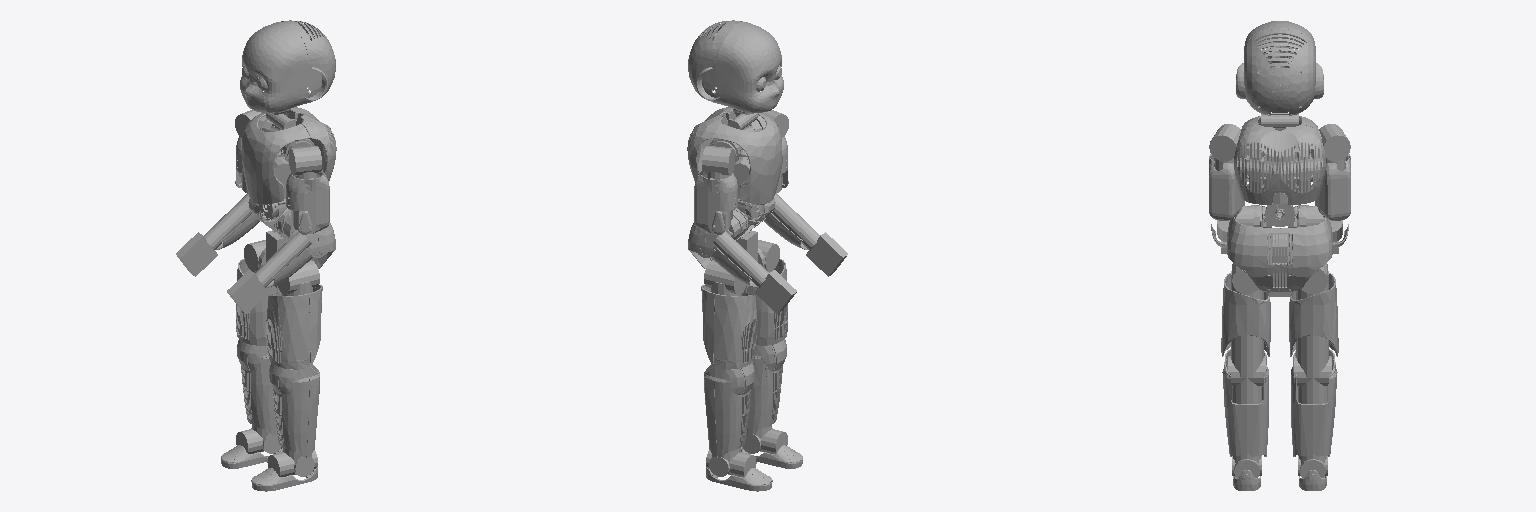
--- Render facts (derived) ---
3 views of the same robot in one strip: view 1: azimuth 30°, elevation 25°; view 2: azimuth 150°, elevation 25°; view 3: azimuth 270°, elevation 25° (orthographic).
Robot: iCub — 56 links, 55 joints (29 revolute, 26 fixed); root link base_link; default pose: all joints at 0 but 2 set to mid-range because 0 is outside their limits (l_elbow = 0.973, r_elbow = 0.973).
Visible links, largest first — view 1: head, chest, l_upper_leg, l_lower_leg, r_lower_leg, l_upper_arm, torso_1, l_forearm, r_forearm, l_foot, r_upper_leg, r_foot (+4 smaller); view 2: head, chest, r_upper_leg, r_lower_leg, l_lower_leg, r_upper_arm, torso_1, r_forearm, l_forearm, r_foot, l_upper_leg, l_foot (+4 smaller); view 3: torso_1, chest, head, l_upper_leg, r_upper_leg, l_lower_leg, r_lower_leg, l_upper_arm, r_upper_arm, l_shoulder_2, r_shoulder_2, l_foot (+1 smaller).
Link boxes in pixels (left/top/right/bottom): head: left=240, top=20, right=335, bottom=113; chest: left=242, top=107, right=336, bottom=204; l_upper_leg: left=266, top=281, right=322, bottom=371; l_lower_leg: left=269, top=362, right=319, bottom=461; r_lower_leg: left=237, top=339, right=276, bottom=438; l_upper_arm: left=286, top=170, right=329, bottom=234; torso_1: left=247, top=199, right=335, bottom=268; l_forearm: left=255, top=231, right=312, bottom=287; r_forearm: left=204, top=193, right=259, bottom=250; l_foot: left=251, top=450, right=317, bottom=491; r_upper_leg: left=236, top=258, right=279, bottom=345; r_foot: left=221, top=429, right=282, bottom=468; head: left=688, top=20, right=783, bottom=113; chest: left=687, top=107, right=782, bottom=204; r_upper_leg: left=701, top=281, right=757, bottom=371; r_lower_leg: left=704, top=362, right=754, bottom=461; l_lower_leg: left=747, top=339, right=786, bottom=438; r_upper_arm: left=694, top=170, right=737, bottom=234; torso_1: left=688, top=199, right=776, bottom=268; r_forearm: left=711, top=231, right=768, bottom=287; l_forearm: left=764, top=193, right=820, bottom=250; r_foot: left=706, top=450, right=772, bottom=491; l_upper_leg: left=744, top=258, right=787, bottom=345; l_foot: left=741, top=429, right=802, bottom=468; torso_1: left=1227, top=203, right=1332, bottom=291; chest: left=1234, top=116, right=1325, bottom=204; head: left=1236, top=21, right=1323, bottom=116; l_upper_leg: left=1221, top=271, right=1270, bottom=386; r_upper_leg: left=1289, top=271, right=1338, bottom=386; l_lower_leg: left=1222, top=349, right=1268, bottom=462; r_lower_leg: left=1291, top=349, right=1337, bottom=462; l_upper_arm: left=1209, top=154, right=1244, bottom=220; r_upper_arm: left=1315, top=154, right=1350, bottom=220; l_shoulder_2: left=1209, top=124, right=1240, bottom=161; r_shoulder_2: left=1319, top=124, right=1350, bottom=161; l_foot: left=1233, top=459, right=1260, bottom=490.
Bounding box of the posed robot: 0.3131 × 0.2951 × 1.05 m (x, y, z).
Meshes: 28 distinct files referenced, 28 mesh visuals loaded (28 OBJ).

URDF robot description (iCub):
<?xml version="1.0" ?>
<robot name="iCub">
    <link name="base_link" />
    <link name="chest">
        <inertial>
            <mass value="4.81" />
            <origin xyz="0.00222898 0.075 -1.18362e-17" rpy="0 -0 0" />
            <inertia ixx="0.07472" ixy="-3.6e-06" ixz="-4.705e-05" iyy="0.08145" iyz="0.004567" izz="0.01306" />
        </inertial>
        <visual>
            <origin xyz="-0.0055 -6.93889e-18 -1.72085e-18" rpy="0 -1.5708 1.5708" />
            <geometry>
                <mesh filename="package://icub_description/meshes/upmc/visual/icub_chest.obj" scale="1 1 1" />
            </geometry>
            <material name="material.metal">
                <texture />
                <color rgba="0.7 0.7 0.7 1.0" />
            </material>
        </visual>
        <collision>
            <origin xyz="-0.0055 -6.93889e-18 -1.72085e-18" rpy="0 -1.5708 1.5708" />
            <geometry>
                <mesh filename="package://icub_description/meshes/upmc/collision/icub_simple_collision_chest.obj" scale="1 1 1" />
            </geometry>
        </collision>
    </link>
    <link name="chest_skin_frame">
        <inertial>
            <mass value="0" />
            <origin xyz="0 0 0" rpy="0 -0 0" />
            <inertia ixx="0" ixy="0" ixz="0" iyy="0" iyz="0" izz="0" />
        </inertial>
    </link>
    <link name="codyco_balancing_world">
        <inertial>
            <mass value="0" />
            <origin xyz="0 0 0" rpy="0 -0 0" />
            <inertia ixx="0" ixy="0" ixz="0" iyy="0" iyz="0" izz="0" />
        </inertial>
    </link>
    <link name="head">
        <inertial>
            <mass value="1.33687" />
            <origin xyz="0.0185 -0.1108 6.78454e-18" rpy="0 -0 0" />
            <inertia ixx="0" ixy="0" ixz="2.40741e-35" iyy="0" iyz="0" izz="0" />
        </inertial>
        <visual>
            <origin xyz="0.0045 -0.0235 9.42554e-13" rpy="0 1.5708 -1.5708" />
            <geometry>
                <mesh filename="package://icub_description/meshes/upmc/visual/icub_head.obj" scale="1 1 1" />
            </geometry>
            <material name="material.metal">
                <texture />
                <color rgba="0.7 0.7 0.7 1.0" />
            </material>
        </visual>
        <collision>
            <origin xyz="0.0045 -0.0235 9.42554e-13" rpy="0 1.5708 -1.5708" />
            <geometry>
                <mesh filename="package://icub_description/meshes/upmc/collision/icub_simple_collision_head.obj" scale="1 1 1" />
            </geometry>
        </collision>
    </link>
    <link name="imu_frame">
        <inertial>
            <mass value="0" />
            <origin xyz="0 0 0" rpy="0 -0 0" />
            <inertia ixx="0" ixy="0" ixz="0" iyy="0" iyz="0" izz="0" />
        </inertial>
    </link>
    <link name="l_ankle_1">
        <inertial>
            <mass value="0.746" />
            <origin xyz="-0.0054 0.00163 0.0172" rpy="0 -0 0" />
            <inertia ixx="0.00063323" ixy="-7.081e-06" ixz="4.1421e-05" iyy="0.00068776" iyz="2.0817e-05" izz="0.000313897" />
        </inertial>
        <visual>
            <origin xyz="1.11022e-16 -5.54343e-12 4.45647e-12" rpy="1.5708 1.53106e-11 1.53105e-11" />
            <geometry>
                <mesh filename="package://icub_description/meshes/upmc/visual/icub_l_ankle_1.obj" scale="1 1 1" />
            </geometry>
            <material name="material.metal">
                <texture />
                <color rgba="0.7 0.7 0.7 1.0" />
            </material>
        </visual>
        <collision>
            <origin xyz="1.11022e-16 -5.54343e-12 4.45647e-12" rpy="1.5708 1.53106e-11 1.53105e-11" />
            <geometry>
                <mesh filename="package://icub_description/meshes/upmc/collision/icub_simple_collision_l_ankle_1.obj" scale="1 1 1" />
            </geometry>
        </collision>
    </link>
    <link name="l_ankle_2">
        <inertial>
            <mass value="0.2675" />
            <origin xyz="0.017 0 0.042" rpy="0 -0 0" />
            <inertia ixx="0" ixy="0" ixz="0" iyy="0" iyz="0" izz="0" />
        </inertial>
    </link>
    <link name="l_elbow_1">
        <inertial>
            <mass value="0.074" />
            <origin xyz="-0.0013 0.00371 -0.00105" rpy="0 -0 0" />
            <inertia ixx="2.8389e-05" ixy="-5.15e-07" ixz="-4.08e-07" iyy="9.244e-06" iyz="-3.71e-07" izz="2.9968e-05" />
        </inertial>
    </link>
    <link name="l_foot">
        <inertial>
            <mass value="0.5935" />
            <origin xyz="0.007069 -0.000613931 -0.0334154" rpy="0 -0 0" />
            <inertia ixx="0.00193893" ixy="-1.3505e-05" ixz="0.0001823" iyy="0.0030191" iyz="-3.30533e-06" izz="0.00162801" />
        </inertial>
        <visual>
            <origin xyz="-0.017 -5.54343e-12 -0.042" rpy="0 1.5708 -2.0414e-11" />
            <geometry>
                <mesh filename="package://icub_description/meshes/upmc/visual/icub_l_foot.obj" scale="1 1 1" />
            </geometry>
            <material name="material.metal">
                <texture />
                <color rgba="0.7 0.7 0.7 1.0" />
            </material>
        </visual>
        <collision>
            <origin xyz="-0.017 -5.54343e-12 -0.042" rpy="0 1.5708 -2.0414e-11" />
            <geometry>
                <mesh filename="package://icub_description/meshes/upmc/collision/icub_simple_collision_l_foot.obj" scale="1 1 1" />
            </geometry>
        </collision>
    </link>
    <link name="l_foot_dh_frame">
        <inertial>
            <mass value="0" />
            <origin xyz="0 0 0" rpy="0 -0 0" />
            <inertia ixx="0" ixy="0" ixz="0" iyy="0" iyz="0" izz="0" />
        </inertial>
    </link>
    <link name="l_forearm">
        <inertial>
            <mass value="0.525" />
            <origin xyz="0.000347 0.066 0.00476" rpy="0 -0 0" />
            <inertia ixx="0.000765393" ixy="4.337e-06" ixz="2.39e-07" iyy="0.000164578" iyz="1.9381e-05" izz="0.00069806" />
        </inertial>
        <visual>
            <origin xyz="-0.000143922 -1.25977e-12 0.0204334" rpy="0 1.5708 1.5708" />
            <geometry>
                <mesh filename="package://icub_description/meshes/upmc/visual/icub_l_forearm.obj" scale="1 1 1" />
            </geometry>
            <material name="material.metal">
                <texture />
                <color rgba="0.7 0.7 0.7 1.0" />
            </material>
        </visual>
        <collision>
            <origin xyz="-0.000143922 -1.25977e-12 0.0204334" rpy="0 1.5708 1.5708" />
            <geometry>
                <mesh filename="package://icub_description/meshes/upmc/collision/icub_simple_collision_l_forearm.obj" scale="1 1 1" />
            </geometry>
        </collision>
    </link>
    <link name="l_forearm_dh_frame">
        <inertial>
            <mass value="0" />
            <origin xyz="0 0 0" rpy="0 -0 0" />
            <inertia ixx="0" ixy="0" ixz="0" iyy="0" iyz="0" izz="0" />
        </inertial>
    </link>
    <link name="l_gripper">
        <inertial>
            <mass value="0" />
            <origin xyz="0 0 0" rpy="0 -0 0" />
            <inertia ixx="0" ixy="0" ixz="0" iyy="0" iyz="0" izz="0" />
        </inertial>
    </link>
    <link name="l_hand">
        <inertial>
            <mass value="0.213" />
            <origin xyz="0.07023 -0.00805 -0.007" rpy="0 -0 0" />
            <inertia ixx="0.000157143" ixy="1.278e-05" ixz="4.823e-06" iyy="0.000247995" iyz="-1.8188e-05" izz="0.000380535" />
        </inertial>
        <visual>
            <origin xyz="-1.25981e-12 0.0204334 -0.000143922" rpy="5.10195e-12 -2.64173e-12 1.49623e-11" />
            <geometry>
                <mesh filename="package://icub_description/meshes/upmc/visual/icub_l_hand.obj" scale="1 1 1" />
            </geometry>
            <material name="material.metal">
                <texture />
                <color rgba="0.7 0.7 0.7 1.0" />
            </material>
        </visual>
        <collision>
            <origin xyz="-1.25981e-12 0.0204334 -0.000143922" rpy="5.10195e-12 -2.64173e-12 1.49623e-11" />
            <geometry>
                <mesh filename="package://icub_description/meshes/upmc/collision/icub_simple_collision_l_hand.obj" scale="1 1 1" />
            </geometry>
        </collision>
    </link>
    <link name="l_hand_dh_frame">
        <inertial>
            <mass value="0" />
            <origin xyz="0 0 0" rpy="0 -0 0" />
            <inertia ixx="0" ixy="0" ixz="0" iyy="0" iyz="0" izz="0" />
        </inertial>
    </link>
    <link name="l_hip_1">
        <inertial>
            <mass value="0.754" />
            <origin xyz="0 -0.0782 0" rpy="0 -0 0" />
            <inertia ixx="0.000471076" ixy="2.059e-06" ixz="1.451e-06" iyy="0.000346478" iyz="1.545e-06" izz="0.000510315" />
        </inertial>
        <visual>
            <origin xyz="0 0 0" rpy="0 1.5708 -1.5708" />
            <geometry>
                <mesh filename="package://icub_description/meshes/upmc/visual/icub_l_hip_1.obj" scale="1 1 1" />
            </geometry>
            <material name="material.metal">
                <texture />
                <color rgba="0.7 0.7 0.7 1.0" />
            </material>
        </visual>
        <collision>
            <origin xyz="0 0 0" rpy="0 1.5708 -1.5708" />
            <geometry>
                <mesh filename="package://icub_description/meshes/upmc/collision/icub_simple_collision_l_hip_1.obj" scale="1 1 1" />
            </geometry>
        </collision>
    </link>
    <link name="l_hip_2">
        <inertial>
            <mass value="0.526" />
            <origin xyz="0 0 0.03045" rpy="0 -0 0" />
            <inertia ixx="0.000561583" ixy="-7.4e-08" ixz="1.0835e-05" iyy="0.000738049" iyz="-6.2e-08" izz="0.000294119" />
        </inertial>
        <visual>
            <origin xyz="0 0 0" rpy="0 -1.5708 3.14159" />
            <geometry>
                <mesh filename="package://icub_description/meshes/upmc/visual/icub_l_hip_2.obj" scale="1 1 1" />
            </geometry>
            <material name="material.metal">
                <texture />
                <color rgba="0.7 0.7 0.7 1.0" />
            </material>
        </visual>
        <collision>
            <origin xyz="0 0 0" rpy="0 -1.5708 3.14159" />
            <geometry>
                <mesh filename="package://icub_description/meshes/upmc/collision/icub_simple_collision_l_hip_2.obj" scale="1 1 1" />
            </geometry>
        </collision>
    </link>
    <link name="l_hip_3">
        <inertial>
            <mass value="0" />
            <origin xyz="0 0 0" rpy="0 -0 0" />
            <inertia ixx="0" ixy="0" ixz="0" iyy="0" iyz="0" izz="0" />
        </inertial>
    </link>
    <link name="l_lower_leg">
        <inertial>
            <mass value="1.264" />
            <origin xyz="-0.1071 0.00182 0.00211" rpy="0 -0 0" />
            <inertia ixx="0.00099895" ixy="-0.000185699" ixz="-6.3147e-05" iyy="0.00445054" iyz="7.86e-07" izz="0.00420766" />
        </inertial>
        <visual>
            <origin xyz="5.55112e-17 2.28232e-12 2.2823e-12" rpy="-3.14159 -2.33487e-16 1.5708" />
            <geometry>
                <mesh filename="package://icub_description/meshes/upmc/visual/icub_l_shank.obj" scale="1 1 1" />
            </geometry>
            <material name="material.metal">
                <texture />
                <color rgba="0.7 0.7 0.7 1.0" />
            </material>
        </visual>
        <collision>
            <origin xyz="5.55112e-17 2.28232e-12 2.2823e-12" rpy="-3.14159 -2.33487e-16 1.5708" />
            <geometry>
                <mesh filename="package://icub_description/meshes/upmc/collision/icub_simple_collision_l_shank.obj" scale="1 1 1" />
            </geometry>
        </collision>
    </link>
    <link name="l_shoulder_1">
        <inertial>
            <mass value="0.189" />
            <origin xyz="-5e-06 0.0187 -0.00119" rpy="0 -0 0" />
            <inertia ixx="5.4421e-05" ixy="9e-09" ixz="0" iyy="9.331e-06" iyz="-1.7e-08" izz="5.4862e-05" />
        </inertial>
        <visual>
            <origin xyz="3.08087e-14 0.109285 -0.00521101" rpy="0 1.5708 -1.5708" />
            <geometry>
                <mesh filename="package://icub_description/meshes/upmc/visual/icub_l_shoulder_1.obj" scale="1 1 1" />
            </geometry>
            <material name="material.metal">
                <texture />
                <color rgba="0.7 0.7 0.7 1.0" />
            </material>
        </visual>
        <collision>
            <origin xyz="3.08087e-14 0.109285 -0.00521101" rpy="0 1.5708 -1.5708" />
            <geometry>
                <mesh filename="package://icub_description/meshes/upmc/collision/icub_simple_collision_l_shoulder_1.obj" scale="1 1 1" />
            </geometry>
        </collision>
    </link>
    <link name="l_shoulder_2">
        <inertial>
            <mass value="0.179" />
            <origin xyz="9.4e-05 -0.00627 0.0166" rpy="0 -0 0" />
            <inertia ixx="0.0001372" ixy="4.66e-07" ixz="3.65e-07" iyy="8.2927e-05" iyz="-2.0524e-05" izz="9.9274e-05" />
        </inertial>
        <visual>
            <origin xyz="-0.00154529 -0.00521101 -1.11181e-12" rpy="0 1.5708 1.5708" />
            <geometry>
                <mesh filename="package://icub_description/meshes/upmc/visual/icub_l_shoulder_2.obj" scale="1 1 1" />
            </geometry>
            <material name="material.metal">
                <texture />
                <color rgba="0.7 0.7 0.7 1.0" />
            </material>
        </visual>
        <collision>
            <origin xyz="-0.00154529 -0.00521101 -1.11181e-12" rpy="0 1.5708 1.5708" />
            <geometry>
                <mesh filename="package://icub_description/meshes/upmc/collision/icub_simple_collision_l_shoulder_2.obj" scale="1 1 1" />
            </geometry>
        </collision>
    </link>
    <link name="l_shoulder_3">
        <inertial>
            <mass value="0.156157" />
            <origin xyz="0.00559398 9.77357e-05 0.0501346" rpy="0 -0 0" />
            <inertia ixx="4.84118e-05" ixy="-5.662e-08" ixz="-4.3618e-06" iyy="5.79067e-05" iyz="-7.42844e-07" izz="6.7103e-05" />
        </inertial>
    </link>
    <link name="l_sole">
        <inertial>
            <mass value="0" />
            <origin xyz="0 0 0" rpy="0 -0 0" />
            <inertia ixx="0" ixy="0" ixz="0" iyy="0" iyz="0" izz="0" />
        </inertial>
    </link>
    <link name="l_upper_arm">
        <inertial>
            <mass value="0.727843" />
            <origin xyz="-0.000156 -9.87e-05 0.0298" rpy="0 -0 0" />
            <inertia ixx="0.000408" ixy="-1.08e-06" ixz="-2.29e-06" iyy="0.00038" iyz="3.57e-06" izz="0.00026" />
        </inertial>
        <visual>
            <origin xyz="-0.0204334 0.000143922 -0.068" rpy="1.15275e-11 4.9296e-12 -1.309" />
            <geometry>
                <mesh filename="package://icub_description/meshes/upmc/visual/icub_l_arm.obj" scale="1 1 1" />
            </geometry>
            <material name="material.metal">
                <texture />
                <color rgba="0.7 0.7 0.7 1.0" />
            </material>
        </visual>
        <collision>
            <origin xyz="-0.0204334 0.000143922 -0.068" rpy="1.15275e-11 4.9296e-12 -1.309" />
            <geometry>
                <mesh filename="package://icub_description/meshes/upmc/collision/icub_simple_collision_l_arm.obj" scale="1 1 1" />
            </geometry>
        </collision>
    </link>
    <link name="l_upper_arm_dh_frame">
        <inertial>
            <mass value="0" />
            <origin xyz="0 0 0" rpy="0 -0 0" />
            <inertia ixx="0" ixy="0" ixz="0" iyy="0" iyz="0" izz="0" />
        </inertial>
    </link>
    <link name="l_upper_leg">
        <inertial>
            <mass value="2.175" />
            <origin xyz="0.00144 -0.15943 -0.00039" rpy="0 -0 0" />
            <inertia ixx="0.00759107" ixy="-6.726e-05" ixz="2.267e-06" iyy="0.00142302" iyz="3.63726e-05" izz="0.00755385" />
        </inertial>
        <visual>
            <origin xyz="0 0 0" rpy="0 1.5708 1.5708" />
            <geometry>
                <mesh filename="package://icub_description/meshes/upmc/visual/icub_l_thigh.obj" scale="1 1 1" />
            </geometry>
            <material name="material.metal">
                <texture />
                <color rgba="0.7 0.7 0.7 1.0" />
            </material>
        </visual>
        <collision>
            <origin xyz="0 0 0" rpy="0 1.5708 1.5708" />
            <geometry>
                <mesh filename="package://icub_description/meshes/upmc/collision/icub_simple_collision_l_thigh.obj" scale="1 1 1" />
            </geometry>
        </collision>
    </link>
    <link name="l_wrist_1">
        <inertial>
            <mass value="0" />
            <origin xyz="0 0 0" rpy="0 -0 0" />
            <inertia ixx="0" ixy="0" ixz="0" iyy="0" iyz="0" izz="0" />
        </inertial>
    </link>
    <link name="neck_1">
        <inertial>
            <mass value="0" />
            <origin xyz="0 0 0" rpy="0 -0 0" />
            <inertia ixx="0" ixy="0" ixz="0" iyy="0" iyz="0" izz="0" />
        </inertial>
        <visual>
            <origin xyz="-1.11022e-16 9.62964e-13 -0.0055" rpy="0 -1.5708 -1.5708" />
            <geometry>
                <mesh filename="package://icub_description/meshes/upmc/visual/icub_neck_1.obj" scale="1 1 1" />
            </geometry>
            <material name="material.metal">
                <texture />
                <color rgba="0.7 0.7 0.7 1.0" />
            </material>
        </visual>
        <collision>
            <origin xyz="-1.11022e-16 9.62964e-13 -0.0055" rpy="0 -1.5708 -1.5708" />
            <geometry>
                <mesh filename="package://icub_description/meshes/upmc/collision/icub_simple_collision_neck_1.obj" scale="1 1 1" />
            </geometry>
        </collision>
    </link>
    <link name="neck_2">
        <inertial>
            <mass value="0" />
            <origin xyz="0 0 0" rpy="0 -0 0" />
            <inertia ixx="0" ixy="0" ixz="0" iyy="0" iyz="0" izz="0" />
        </inertial>
        <visual>
            <origin xyz="-9.62967e-13 0.0055 0.0235" rpy="0 -1.5708 1.5708" />
            <geometry>
                <mesh filename="package://icub_description/meshes/upmc/visual/icub_neck_2.obj" scale="1 1 1" />
            </geometry>
            <material name="material.metal">
                <texture />
                <color rgba="0.7 0.7 0.7 1.0" />
            </material>
        </visual>
        <collision>
            <origin xyz="-9.62967e-13 0.0055 0.0235" rpy="0 -1.5708 1.5708" />
            <geometry>
                <mesh filename="package://icub_description/meshes/upmc/collision/icub_simple_collision_neck_2.obj" scale="1 1 1" />
            </geometry>
        </collision>
    </link>
    <link name="r_ankle_1">
        <inertial>
            <mass value="0.746" />
            <origin xyz="-0.0054 0.00163 -0.0172" rpy="0 -0 0" />
            <inertia ixx="2.71051e-20" ixy="-1.69407e-21" ixz="1.35525e-20" iyy="5.42101e-20" iyz="3.38813e-21" izz="1.35525e-20" />
        </inertial>
        <visual>
            <origin xyz="1.11022e-16 -1.08717e-12 -4.45647e-12" rpy="-1.5708 -1.53106e-11 5.10376e-12" />
            <geometry>
                <mesh filename="package://icub_description/meshes/upmc/visual/icub_r_ankle_1.obj" scale="1 1 1" />
            </geometry>
            <material name="material.metal">
                <texture />
                <color rgba="0.7 0.7 0.7 1.0" />
            </material>
        </visual>
        <collision>
            <origin xyz="1.11022e-16 -1.08717e-12 -4.45647e-12" rpy="-1.5708 -1.53106e-11 5.10376e-12" />
            <geometry>
                <mesh filename="package://icub_description/meshes/upmc/collision/icub_simple_collision_r_ankle_1.obj" scale="1 1 1" />
            </geometry>
        </collision>
    </link>
    <link name="r_ankle_2">
        <inertial>
            <mass value="0.2675" />
            <origin xyz="0.017 0 0.042" rpy="0 -0 0" />
            <inertia ixx="0" ixy="0" ixz="0" iyy="0" iyz="0" izz="0" />
        </inertial>
    </link>
    <link name="r_elbow_1">
        <inertial>
            <mass value="0.074" />
            <origin xyz="0.0013 -0.00371 0.00105" rpy="0 -0 0" />
            <inertia ixx="2.84e-05" ixy="-5.02e-07" ixz="-3.99e-07" iyy="9.24e-06" iyz="-3.71e-07" izz="2.99e-05" />
        </inertial>
    </link>
    <link name="r_foot">
        <inertial>
            <mass value="0.5935" />
            <origin xyz="0.007069 0.000613931 -0.0334154" rpy="0 -0 0" />
            <inertia ixx="0.00193893" ixy="1.3505e-05" ixz="0.0001823" iyy="0.0030191" iyz="3.30551e-06" izz="0.00162801" />
        </inertial>
        <visual>
            <origin xyz="-0.017 1.08717e-12 -0.042" rpy="0 1.5708 3.14159" />
            <geometry>
                <mesh filename="package://icub_description/meshes/upmc/visual/icub_r_foot.obj" scale="1 1 1" />
            </geometry>
            <material name="material.metal">
                <texture />
                <color rgba="0.7 0.7 0.7 1.0" />
            </material>
        </visual>
        <collision>
            <origin xyz="-0.017 1.08717e-12 -0.042" rpy="0 1.5708 3.14159" />
            <geometry>
                <mesh filename="package://icub_description/meshes/upmc/collision/icub_simple_collision_r_foot.obj" scale="1 1 1" />
            </geometry>
        </collision>
    </link>
    <link name="r_foot_dh_frame">
        <inertial>
            <mass value="0" />
            <origin xyz="0 0 0" rpy="0 -0 0" />
            <inertia ixx="0" ixy="0" ixz="0" iyy="0" iyz="0" izz="0" />
        </inertial>
    </link>
    <link name="r_forearm">
        <inertial>
            <mass value="0.525" />
            <origin xyz="-0.000347 -0.066 -0.00476" rpy="0 -0 0" />
            <inertia ixx="0.000766" ixy="5.66e-06" ixz="1.4e-06" iyy="0.000164" iyz="1.82e-05" izz="0.000699" />
        </inertial>
        <visual>
            <origin xyz="0.000143922 -1.07216e-12 -0.0204334" rpy="0 1.5708 1.5708" />
            <geometry>
                <mesh filename="package://icub_description/meshes/upmc/visual/icub_r_forearm.obj" scale="1 1 1" />
            </geometry>
            <material name="material.metal">
                <texture />
                <color rgba="0.7 0.7 0.7 1.0" />
            </material>
        </visual>
        <collision>
            <origin xyz="0.000143922 -1.07216e-12 -0.0204334" rpy="0 1.5708 1.5708" />
            <geometry>
                <mesh filename="package://icub_description/meshes/upmc/collision/icub_simple_collision_r_forearm.obj" scale="1 1 1" />
            </geometry>
        </collision>
    </link>
    <link name="r_forearm_dh_frame">
        <inertial>
            <mass value="0" />
            <origin xyz="0 0 0" rpy="0 -0 0" />
            <inertia ixx="0" ixy="0" ixz="0" iyy="0" iyz="0" izz="0" />
        </inertial>
    </link>
    <link name="r_gripper">
        <inertial>
            <mass value="0" />
            <origin xyz="0 0 0" rpy="0 -0 0" />
            <inertia ixx="0" ixy="0" ixz="0" iyy="0" iyz="0" izz="0" />
        </inertial>
    </link>
    <link name="r_hand">
        <inertial>
            <mass value="0.213" />
            <origin xyz="0.07023 -0.00805 0.007" rpy="0 -0 0" />
            <inertia ixx="0.000154" ixy="1.26e-05" ixz="-6.08e-06" iyy="0.00025" iyz="1.76e-05" izz="0.000378" />
        </inertial>
        <visual>
            <origin xyz="1.07207e-12 0.0204334 0.000143922" rpy="1.53098e-11 2.00665e-11 -3.14159" />
            <geometry>
                <mesh filename="package://icub_description/meshes/upmc/visual/icub_r_hand.obj" scale="1 1 1" />
            </geometry>
            <material name="material.metal">
                <texture />
                <color rgba="0.7 0.7 0.7 1.0" />
            </material>
        </visual>
        <collision>
            <origin xyz="1.07207e-12 0.0204334 0.000143922" rpy="1.53098e-11 2.00665e-11 -3.14159" />
            <geometry>
                <mesh filename="package://icub_description/meshes/upmc/collision/icub_simple_collision_r_hand.obj" scale="1 1 1" />
            </geometry>
        </collision>
    </link>
    <link name="r_hand_dh_frame">
        <inertial>
            <mass value="0" />
            <origin xyz="0 0 0" rpy="0 -0 0" />
            <inertia ixx="0" ixy="0" ixz="0" iyy="0" iyz="0" izz="0" />
        </inertial>
    </link>
    <link name="r_hip_1">
        <inertial>
            <mass value="0.754" />
            <origin xyz="0 -0.0782 0" rpy="0 -0 0" />
            <inertia ixx="0" ixy="0" ixz="0" iyy="0" iyz="0" izz="0" />
        </inertial>
        <visual>
            <origin xyz="0 0 0" rpy="0 -1.5708 4.71239" />
            <geometry>
                <mesh filename="package://icub_description/meshes/upmc/visual/icub_r_hip_1.obj" scale="1 1 1" />
            </geometry>
            <material name="material.metal">
                <texture />
                <color rgba="0.7 0.7 0.7 1.0" />
            </material>
        </visual>
        <collision>
            <origin xyz="0 0 0" rpy="0 -1.5708 4.71239" />
            <geometry>
                <mesh filename="package://icub_description/meshes/upmc/collision/icub_simple_collision_r_hip_1.obj" scale="1 1 1" />
            </geometry>
        </collision>
    </link>
    <link name="r_hip_2">
        <inertial>
            <mass value="0.526" />
            <origin xyz="0 0 0.03045" rpy="0 -0 0" />
            <inertia ixx="-5.42101e-20" ixy="0" ixz="0" iyy="-5.42101e-20" iyz="0" izz="0" />
        </inertial>
        <visual>
            <origin xyz="0 0 0" rpy="0 -1.5708 1.02066e-11" />
            <geometry>
                <mesh filename="package://icub_description/meshes/upmc/visual/icub_r_hip_2.obj" scale="1 1 1" />
            </geometry>
            <material name="material.metal">
                <texture />
                <color rgba="0.7 0.7 0.7 1.0" />
            </material>
        </visual>
        <collision>
            <origin xyz="0 0 0" rpy="0 -1.5708 1.02066e-11" />
            <geometry>
                <mesh filename="package://icub_description/meshes/upmc/collision/icub_simple_collision_r_hip_2.obj" scale="1 1 1" />
            </geometry>
        </collision>
    </link>
    <link name="r_hip_3">
        <inertial>
            <mass value="0" />
            <origin xyz="0 0 0" rpy="0 -0 0" />
            <inertia ixx="0" ixy="0" ixz="0" iyy="0" iyz="0" izz="0" />
        </inertial>
    </link>
    <link name="r_lower_leg">
        <inertial>
            <mass value="1.264" />
            <origin xyz="-0.1071 0.00182 -0.00211" rpy="0 -0 0" />
            <inertia ixx="1.10961e-18" ixy="5.42101e-20" ixz="-5.42101e-20" iyy="0" iyz="8.47033e-22" izz="0" />
        </inertial>
        <visual>
            <origin xyz="5.55112e-17 2.28232e-12 -8.32667e-17" rpy="3.14159 -1.14424e-17 1.5708" />
            <geometry>
                <mesh filename="package://icub_description/meshes/upmc/visual/icub_r_shank.obj" scale="1 1 1" />
            </geometry>
            <material name="material.metal">
                <texture />
                <color rgba="0.7 0.7 0.7 1.0" />
            </material>
        </visual>
        <collision>
            <origin xyz="5.55112e-17 2.28232e-12 -8.32667e-17" rpy="3.14159 -1.14424e-17 1.5708" />
            <geometry>
                <mesh filename="package://icub_description/meshes/upmc/collision/icub_simple_collision_r_shank.obj" scale="1 1 1" />
            </geometry>
        </collision>
    </link>
    <link name="r_shoulder_1">
        <inertial>
            <mass value="0.189" />
            <origin xyz="5e-06 0.0187 0.00119" rpy="0 -0 0" />
            <inertia ixx="0.000123" ixy="2.1e-08" ixz="-1e-09" iyy="2.44e-05" iyz="4.22e-06" izz="0.000113" />
        </inertial>
        <visual>
            <origin xyz="-3.08642e-14 0.109285 0.00521101" rpy="0 1.5708 1.5708" />
            <geometry>
                <mesh filename="package://icub_description/meshes/upmc/visual/icub_r_shoulder_1.obj" scale="1 1 1" />
            </geometry>
            <material name="material.metal">
                <texture />
                <color rgba="0.7 0.7 0.7 1.0" />
            </material>
        </visual>
        <collision>
            <origin xyz="-3.08642e-14 0.109285 0.00521101" rpy="0 1.5708 1.5708" />
            <geometry>
                <mesh filename="package://icub_description/meshes/upmc/collision/icub_simple_collision_r_shoulder_1.obj" scale="1 1 1" />
            </geometry>
        </collision>
    </link>
    <link name="r_shoulder_2">
        <inertial>
            <mass value="0.179" />
            <origin xyz="-9.4e-05 -0.00627 -0.0166" rpy="0 -0 0" />
            <inertia ixx="0.000137" ixy="-4.53e-07" ixz="2.03e-07" iyy="8.3e-05" iyz="2.07e-05" izz="9.93e-05" />
        </inertial>
        <visual>
            <origin xyz="-0.00154529 -0.00521101 -1.11186e-12" rpy="0 -1.5708 1.5708" />
            <geometry>
                <mesh filename="package://icub_description/meshes/upmc/visual/icub_r_shoulder_2.obj" scale="1 1 1" />
            </geometry>
            <material name="material.metal">
                <texture />
                <color rgba="0.7 0.7 0.7 1.0" />
            </material>
        </visual>
        <collision>
            <origin xyz="-0.00154529 -0.00521101 -1.11186e-12" rpy="0 -1.5708 1.5708" />
            <geometry>
                <mesh filename="package://icub_description/meshes/upmc/collision/icub_simple_collision_r_shoulder_2.obj" scale="1 1 1" />
            </geometry>
        </collision>
    </link>
    <link name="r_shoulder_3">
        <inertial>
            <mass value="0.155" />
            <origin xyz="0.00553932 -2.47652e-05 0.0493895" rpy="0 -0 0" />
            <inertia ixx="3.44122e-05" ixy="3.56977e-07" ixz="-3.95372e-06" iyy="4.33544e-05" iyz="-6.5128e-06" izz="6.49393e-05" />
        </inertial>
    </link>
    <link name="r_sole">
        <inertial>
            <mass value="0" />
            <origin xyz="0 0 0" rpy="0 -0 0" />
            <inertia ixx="0" ixy="0" ixz="0" iyy="0" iyz="0" izz="0" />
        </inertial>
    </link>
    <link name="r_upper_arm">
        <inertial>
            <mass value="0.729" />
            <origin xyz="-0.00015906 8.28733e-05 0.0298828" rpy="0 -0 0" />
            <inertia ixx="0.000408" ixy="-1.08e-06" ixz="-2.29e-06" iyy="0.00038" iyz="3.57e-06" izz="0.00026" />
        </inertial>
        <visual>
            <origin xyz="-0.0204334 -0.000143922 -0.068" rpy="-3.14159 -1.5137e-11 1.309" />
            <geometry>
                <mesh filename="package://icub_description/meshes/upmc/visual/icub_r_arm.obj" scale="1 1 1" />
            </geometry>
            <material name="material.metal">
                <texture />
                <color rgba="0.7 0.7 0.7 1.0" />
            </material>
        </visual>
        <collision>
            <origin xyz="-0.0204334 -0.000143922 -0.068" rpy="-3.14159 -1.5137e-11 1.309" />
            <geometry>
                <mesh filename="package://icub_description/meshes/upmc/collision/icub_simple_collision_r_arm.obj" scale="1 1 1" />
            </geometry>
        </collision>
    </link>
    <link name="r_upper_arm_dh_frame">
        <inertial>
            <mass value="0" />
            <origin xyz="0 0 0" rpy="0 -0 0" />
            <inertia ixx="0" ixy="0" ixz="0" iyy="0" iyz="0" izz="0" />
        </inertial>
    </link>
    <link name="r_upper_leg">
        <inertial>
            <mass value="2.175" />
            <origin xyz="0.00144 -0.15943 0.00039" rpy="0 -0 0" />
            <inertia ixx="0" ixy="0" ixz="0" iyy="4.07592e-18" iyz="-2.71051e-20" izz="0" />
        </inertial>
        <visual>
            <origin xyz="0 0 0" rpy="0 -1.5708 1.5708" />
            <geometry>
                <mesh filename="package://icub_description/meshes/upmc/visual/icub_r_thigh.obj" scale="1 1 1" />
            </geometry>
            <material name="material.metal">
                <texture />
                <color rgba="0.7 0.7 0.7 1.0" />
            </material>
        </visual>
        <collision>
            <origin xyz="0 0 0" rpy="0 -1.5708 1.5708" />
            <geometry>
                <mesh filename="package://icub_description/meshes/upmc/collision/icub_simple_collision_r_thigh.obj" scale="1 1 1" />
            </geometry>
        </collision>
    </link>
    <link name="r_wrist_1">
        <inertial>
            <mass value="0" />
            <origin xyz="0 0 0" rpy="0 -0 0" />
            <inertia ixx="0" ixy="0" ixz="0" iyy="0" iyz="0" izz="0" />
        </inertial>
    </link>
    <link name="root_link">
        <inertial>
            <mass value="4.72" />
            <origin xyz="0 0 0" rpy="0 -0 0" />
            <inertia ixx="0" ixy="0" ixz="0" iyy="0" iyz="0" izz="0" />
        </inertial>
        <visual>
            <origin xyz="0 0 0" rpy="0 -0 0" />
            <geometry>
                <mesh filename="package://icub_description/meshes/upmc/visual/icub_root_link.obj" scale="1 1 1" />
            </geometry>
            <material name="material.metal">
                <texture />
                <color rgba="0.7 0.7 0.7 1.0" />
            </material>
        </visual>
        <collision>
            <origin xyz="0 0 0" rpy="0 -0 0" />
            <geometry>
                <mesh filename="package://icub_description/meshes/upmc/collision/icub_simple_collision_root_link.obj" scale="1 1 1" />
            </geometry>
        </collision>
    </link>
    <link name="torso">
        <inertial>
            <mass value="0" />
            <origin xyz="0 0 0" rpy="0 -0 0" />
            <inertia ixx="0" ixy="0" ixz="0" iyy="0" iyz="0" izz="0" />
        </inertial>
    </link>
    <link name="torso_1">
        <inertial>
            <mass value="0" />
            <origin xyz="0 0 0" rpy="0 -0 0" />
            <inertia ixx="0.0004544" ixy="-4.263e-05" ixz="-3.889e-08" iyy="0.001141" iyz="0" izz="0.001236" />
        </inertial>
        <visual>
            <origin xyz="0 0 0" rpy="-1.5708 5.10314e-12 1.11022e-16" />
            <geometry>
                <mesh filename="package://icub_description/meshes/upmc/visual/icub_lap_belt_1.obj" scale="1 1 1" />
            </geometry>
            <material name="material.metal">
                <texture />
                <color rgba="0.7 0.7 0.7 1.0" />
            </material>
        </visual>
        <collision>
            <origin xyz="0 0 0" rpy="-1.5708 5.10314e-12 1.11022e-16" />
            <geometry>
                <mesh filename="package://icub_description/meshes/upmc/collision/icub_simple_collision_lap_belt_1.obj" scale="1 1 1" />
            </geometry>
        </collision>
    </link>
    <link name="torso_2">
        <inertial>
            <mass value="0" />
            <origin xyz="0 0 0" rpy="0 -0 0" />
            <inertia ixx="0.0005308" ixy="-1.923e-06" ixz="5.095e-05" iyy="0.002031" iyz="-3.849e-07" izz="0.001803" />
        </inertial>
    </link>
    <joint name="torso_yaw" type="revolute">
        <origin xyz="-7.46298e-34 -0.0055 0" rpy="-1.5708 1.11022e-16 -1.5708" />
        <axis xyz="0 -1 6.12323e-17" />
        <parent link="torso_2" />
        <child link="chest" />
        <dynamics damping="1" friction="0" />
        <limit effort="80" velocity="100" lower="-1.02974" upper="1.02974" />
    </joint>
    <joint name="chest_skin_frame_fixed_joint" type="fixed">
        <origin xyz="-0.0055 -0.032 3.36778e-19" rpy="1.5708 -1.22465e-16 -3.14159" />
        <axis xyz="0 0 0" />
        <parent link="chest" />
        <child link="chest_skin_frame" />
    </joint>
    <joint name="codyco_balancing_world_fixed_joint" type="fixed">
        <origin xyz="-0.0353 -7.60894e-35 -0.001" rpy="3.14159 -0 0" />
        <axis xyz="0 0 0" />
        <parent link="l_foot" />
        <child link="codyco_balancing_world" />
    </joint>
    <joint name="neck_yaw" type="fixed">
        <origin xyz="-5.77779e-34 0 0" rpy="-1.5708 -1.11022e-16 1.5708" />
        <axis xyz="0 -1 6.12323e-17" />
        <parent link="neck_2" />
        <child link="head" />
        <dynamics damping="1" friction="0" />
        <limit effort="20" velocity="100" lower="-0.959931" upper="0.959931" />
    </joint>
    <joint name="imu_frame_fixed_joint" type="fixed">
        <origin xyz="0.0185 -0.1108 0.0066" rpy="1.5708 -0 0" />
        <axis xyz="0 0 0" />
        <parent link="head" />
        <child link="imu_frame" />
    </joint>
    <joint name="l_ankle_pitch" type="revolute">
        <origin xyz="-0.213 0 0" rpy="-1.5708 0 0" />
        <axis xyz="0 -1 6.12323e-17" />
        <parent link="l_lower_leg" />
        <child link="l_ankle_1" />
        <dynamics damping="1" friction="0" />
        <limit effort="24" velocity="100" lower="-0.733038" upper="0.366519" />
    </joint>
    <joint name="l_ankle_roll" type="revolute">
        <origin xyz="0 0 0" rpy="0 -1.5708 0" />
        <axis xyz="1 0 0" />
        <parent link="l_ankle_1" />
        <child link="l_ankle_2" />
        <dynamics damping="1" friction="0" />
        <limit effort="11" velocity="100" lower="-0.418879" upper="0.418879" />
    </joint>
    <joint name="l_elbow" type="revolute">
        <origin xyz="0 0 0.08428" rpy="-6.12323e-17 0 0" />
        <axis xyz="0 1 6.12323e-17" />
        <parent link="l_upper_arm" />
        <child link="l_elbow_1" />
        <dynamics damping="1" friction="0" />
        <limit effort="20" velocity="100" lower="0.0959931" upper="1.85005" />
    </joint>
    <joint name="l_foot_ft_sensor" type="fixed">
        <origin xyz="0.017 0 0.042" rpy="0 -0 0" />
        <axis xyz="0 0 0" />
        <parent link="l_ankle_2" />
        <child link="l_foot" />
    </joint>
    <joint name="l_foot_dh_frame_fixed_joint" type="fixed">
        <origin xyz="-0.0353 0 -0.001" rpy="0 1.5708 -0" />
        <axis xyz="0 0 0" />
        <parent link="l_foot" />
        <child link="l_foot_dh_frame" />
    </joint>
    <joint name="l_wrist_prosup" type="revolute">
        <origin xyz="-0.015 0 0" rpy="1.5708 -1.11022e-16 -1.5708" />
        <axis xyz="0 1 6.12323e-17" />
        <parent link="l_elbow_1" />
        <child link="l_forearm" />
        <dynamics damping="1" friction="0" />
        <limit effort="0.45" velocity="100" lower="-0.872665" upper="0.872665" />
    </joint>
    <joint name="l_forearm_dh_frame_fixed_joint" type="fixed">
        <origin xyz="0 0.1373 8.4072e-18" rpy="0 -0 0" />
        <axis xyz="0 0 0" />
        <parent link="l_forearm" />
        <child link="l_forearm_dh_frame" />
    </joint>
    <joint name="l_gripper_joint" type="fixed">
        <origin xyz="0.0625 0 -0.016" rpy="0 -0 0" />
        <axis xyz="0 0 0" />
        <parent link="l_hand" />
        <child link="l_gripper" />
    </joint>
    <joint name="l_wrist_yaw" type="revolute">
        <origin xyz="0 0 0" rpy="0 -0 0" />
        <axis xyz="0 0 1" />
        <parent link="l_wrist_1" />
        <child link="l_hand" />
        <dynamics damping="1" friction="0" />
        <limit effort="0.65" velocity="100" lower="-0.436332" upper="0.436332" />
    </joint>
    <joint name="l_hand_dh_frame_fixed_joint" type="fixed">
        <origin xyz="0.0625 0 -0.016" rpy="0 -0 0" />
        <axis xyz="0 0 0" />
        <parent link="l_hand" />
        <child link="l_hand_dh_frame" />
    </joint>
    <joint name="l_hip_pitch" type="revolute">
        <origin xyz="0 -0.0681 -0.1199" rpy="0 1.5708 -3.14159" />
        <axis xyz="0 -1 6.12323e-17" />
        <parent link="root_link" />
        <child link="l_hip_1" />
        <dynamics damping="1" friction="0" />
        <limit effort="84" velocity="100" lower="-0.767945" upper="2.30383" />
    </joint>
    <joint name="l_hip_roll" type="revolute">
        <origin xyz="0 0 0" rpy="0 -1.5708 3.14159" />
        <axis xyz="1 0 -6.12323e-17" />
        <parent link="l_hip_1" />
        <child link="l_hip_2" />
        <dynamics damping="1" friction="0" />
        <limit effort="84" velocity="100" lower="-2.07694" upper="0.296706" />
    </joint>
    <joint name="l_leg_ft_sensor" type="fixed">
        <origin xyz="0 0 0.0665" rpy="0 -0 0" />
        <axis xyz="0 0 0" />
        <parent link="l_hip_2" />
        <child link="l_hip_3" />
    </joint>
    <joint name="l_knee" type="revolute">
        <origin xyz="0 -0.2236 -1.36916e-17" rpy="3.14159 -1.2326e-32 1.5708" />
        <axis xyz="0 1.22465e-16 -1" />
        <parent link="l_upper_leg" />
        <child link="l_lower_leg" />
        <dynamics damping="1" friction="0" />
        <limit effort="30" velocity="100" lower="-2.18166" upper="0.401426" />
    </joint>
    <joint name="l_shoulder_pitch" type="revolute">
        <origin xyz="0.00525 0.1433 -0.11026" rpy="1.309 5.55112e-17 1.5708" />
        <axis xyz="0 -1 5.55112e-17" />
        <parent link="chest" />
        <child link="l_shoulder_1" />
        <dynamics damping="1" friction="0" />
        <limit effort="84" velocity="100" lower="-1.65806" upper="0.0872665" />
    </joint>
    <joint name="l_shoulder_roll" type="revolute">
        <origin xyz="0 0 0" rpy="1.5708 -1.11022e-16 -1.5708" />
        <axis xyz="0 1 6.12323e-17" />
        <parent link="l_shoulder_1" />
        <child link="l_shoulder_2" />
        <dynamics damping="1" friction="0" />
        <limit effort="84" velocity="100" lower="0" upper="2.80649" />
    </joint>
    <joint name="l_shoulder_yaw" type="revolute">
        <origin xyz="4.33681e-19 1.73472e-18 0" rpy="6.12323e-17 -0 1.309" />
        <axis xyz="0 6.12323e-17 1" />
        <parent link="l_shoulder_2" />
        <child link="l_shoulder_3" />
        <dynamics damping="1" friction="0" />
        <limit effort="34" velocity="100" lower="-0.645772" upper="1.74533" />
    </joint>
    <joint name="l_sole_fixed_joint" type="fixed">
        <origin xyz="-0.0353 -7.60894e-35 -0.001" rpy="3.14159 -0 0" />
        <axis xyz="0 0 0" />
        <parent link="l_foot" />
        <child link="l_sole" />
    </joint>
    <joint name="l_arm_ft_sensor" type="fixed">
        <origin xyz="0.015 9.36797e-18 0.068" rpy="0 -0 0" />
        <axis xyz="0 0 0" />
        <parent link="l_shoulder_3" />
        <child link="l_upper_arm" />
    </joint>
    <joint name="l_upper_arm_dh_frame_fixed_joint" type="fixed">
        <origin xyz="0 0 0.08428" rpy="-1.5708 0 0" />
        <axis xyz="0 0 0" />
        <parent link="l_upper_arm" />
        <child link="l_upper_arm_dh_frame" />
    </joint>
    <joint name="l_hip_yaw" type="revolute">
        <origin xyz="0 0 -0.0665" rpy="-1.5708 -6.16298e-33 -6.12323e-17" />
        <axis xyz="0 1 6.12323e-17" />
        <parent link="l_hip_3" />
        <child link="l_upper_leg" />
        <dynamics damping="1" friction="0" />
        <limit effort="40" velocity="100" lower="-1.37881" upper="1.37881" />
    </joint>
    <joint name="l_wrist_pitch" type="revolute">
        <origin xyz="0 0.1373 8.4072e-18" rpy="1.5708 1.11022e-16 1.5708" />
        <axis xyz="0 1 6.12323e-17" />
        <parent link="l_forearm" />
        <child link="l_wrist_1" />
        <dynamics damping="1" friction="0" />
        <limit effort="0.65" velocity="100" lower="-1.13446" upper="0.174533" />
    </joint>
    <joint name="neck_pitch" type="fixed">
        <origin xyz="0.00231 0.1933 -1.18362e-17" rpy="1.5708 1.11022e-16 1.5708" />
        <axis xyz="0 1 6.12323e-17" />
        <parent link="chest" />
        <child link="neck_1" />
        <dynamics damping="1" friction="0" />
        <limit effort="20" velocity="100" lower="-0.698132" upper="0.523599" />
    </joint>
    <joint name="neck_roll" type="fixed">
        <origin xyz="0.0095 0 0" rpy="-1.5708 1.11022e-16 -1.5708" />
        <axis xyz="0 -1 6.12323e-17" />
        <parent link="neck_1" />
        <child link="neck_2" />
        <dynamics damping="1" friction="0" />
        <limit effort="20" velocity="100" lower="-1.22173" upper="1.0472" />
    </joint>
    <joint name="r_ankle_pitch" type="revolute">
        <origin xyz="-0.213 0 0" rpy="1.5708 -0 0" />
        <axis xyz="0 1 6.12323e-17" />
        <parent link="r_lower_leg" />
        <child link="r_ankle_1" />
        <dynamics damping="1" friction="0" />
        <limit effort="24" velocity="100" lower="-0.733038" upper="0.366519" />
    </joint>
    <joint name="r_ankle_roll" type="revolute">
        <origin xyz="0 0 0" rpy="0 1.5708 3.14159" />
        <axis xyz="-1 1.22465e-16 0" />
        <parent link="r_ankle_1" />
        <child link="r_ankle_2" />
        <dynamics damping="1" friction="0" />
        <limit effort="11" velocity="100" lower="-0.418879" upper="0.418879" />
    </joint>
    <joint name="r_elbow" type="revolute">
        <origin xyz="0 0 0.08428" rpy="3.14159 -0 3.14159" />
        <axis xyz="0 1 6.12323e-17" />
        <parent link="r_upper_arm" />
        <child link="r_elbow_1" />
        <dynamics damping="1" friction="0" />
        <limit effort="20" velocity="100" lower="0.0959931" upper="1.85005" />
    </joint>
    <joint name="r_foot_ft_sensor" type="fixed">
        <origin xyz="0.017 0 0.042" rpy="0 -0 0" />
        <axis xyz="0 0 0" />
        <parent link="r_ankle_2" />
        <child link="r_foot" />
    </joint>
    <joint name="r_foot_dh_frame_fixed_joint" type="fixed">
        <origin xyz="-0.0353 0 -0.001" rpy="0 1.5708 -0" />
        <axis xyz="0 0 0" />
        <parent link="r_foot" />
        <child link="r_foot_dh_frame" />
    </joint>
    <joint name="r_wrist_prosup" type="revolute">
        <origin xyz="0.015 0 0" rpy="1.5708 -1.11022e-16 -1.5708" />
        <axis xyz="0 1 6.12323e-17" />
        <parent link="r_elbow_1" />
        <child link="r_forearm" />
        <dynamics damping="1" friction="0" />
        <limit effort="0.45" velocity="100" lower="-0.872665" upper="0.872665" />
    </joint>
    <joint name="r_forearm_dh_frame_fixed_joint" type="fixed">
        <origin xyz="0 -0.1373 -8.4072e-18" rpy="0 -0 0" />
        <axis xyz="0 0 0" />
        <parent link="r_forearm" />
        <child link="r_forearm_dh_frame" />
    </joint>
    <joint name="r_gripper_joint" type="fixed">
        <origin xyz="0.0625 0 0.016" rpy="0 -0 0" />
        <axis xyz="0 0 0" />
        <parent link="r_hand" />
        <child link="r_gripper" />
    </joint>
    <joint name="r_wrist_yaw" type="revolute">
        <origin xyz="0 0 0" rpy="0 -0 3.14159" />
        <axis xyz="0 0 1" />
        <parent link="r_wrist_1" />
        <child link="r_hand" />
        <dynamics damping="1" friction="0" />
        <limit effort="0.65" velocity="100" lower="-0.436332" upper="0.436332" />
    </joint>
    <joint name="r_hand_dh_frame_fixed_joint" type="fixed">
        <origin xyz="0.0625 0 0.016" rpy="0 -0 0" />
        <axis xyz="0 0 0" />
        <parent link="r_hand" />
        <child link="r_hand_dh_frame" />
    </joint>
    <joint name="r_hip_pitch" type="revolute">
        <origin xyz="0 0.0681 -0.1199" rpy="0 1.5708 6.12323e-17" />
        <axis xyz="0 1 6.12323e-17" />
        <parent link="root_link" />
        <child link="r_hip_1" />
        <dynamics damping="1" friction="0" />
        <limit effort="84" velocity="100" lower="-0.767945" upper="2.30383" />
    </joint>
    <joint name="r_hip_roll" type="revolute">
        <origin xyz="0 0 0" rpy="0 1.5708 -6.12323e-17" />
        <axis xyz="-1 0 6.12323e-17" />
        <parent link="r_hip_1" />
        <child link="r_hip_2" />
        <dynamics damping="1" friction="0" />
        <limit effort="84" velocity="100" lower="-2.07694" upper="0.296706" />
    </joint>
    <joint name="r_leg_ft_sensor" type="fixed">
        <origin xyz="0 0 0.0665" rpy="0 -0 0" />
        <axis xyz="0 0 0" />
        <parent link="r_hip_2" />
        <child link="r_hip_3" />
    </joint>
    <joint name="r_knee" type="revolute">
        <origin xyz="0 -0.2236 1.36916e-17" rpy="3.14159 -1.2326e-32 1.5708" />
        <axis xyz="0 1.22465e-16 -1" />
        <parent link="r_upper_leg" />
        <child link="r_lower_leg" />
        <dynamics damping="1" friction="0" />
        <limit effort="30" velocity="100" lower="-2.18166" upper="0.401426" />
    </joint>
    <joint name="r_shoulder_pitch" type="revolute">
        <origin xyz="0.00525 0.1433 0.11026" rpy="-1.309 -0 1.5708" />
        <axis xyz="0 1 5.55112e-17" />
        <parent link="chest" />
        <child link="r_shoulder_1" />
        <dynamics damping="1" friction="0" />
        <limit effort="84" velocity="100" lower="-1.65806" upper="0.0872665" />
    </joint>
    <joint name="r_shoulder_roll" type="revolute">
        <origin xyz="0 0 0" rpy="-1.5708 1.11022e-16 -1.5708" />
        <axis xyz="0 -1 6.12323e-17" />
        <parent link="r_shoulder_1" />
        <child link="r_shoulder_2" />
        <dynamics damping="1" friction="0" />
        <limit effort="84" velocity="100" lower="0" upper="2.80649" />
    </joint>
    <joint name="r_shoulder_yaw" type="revolute">
        <origin xyz="-4.33681e-19 0 0" rpy="3.14159 -0 1.309" />
        <axis xyz="0 6.12323e-17 -1" />
        <parent link="r_shoulder_2" />
        <child link="r_shoulder_3" />
        <dynamics damping="1" friction="0" />
        <limit effort="34" velocity="100" lower="-0.645772" upper="1.74533" />
    </joint>
    <joint name="r_sole_fixed_joint" type="fixed">
        <origin xyz="-0.0353 -1.38778e-17 -0.001" rpy="3.14159 -0 0" />
        <axis xyz="0 0 0" />
        <parent link="r_foot" />
        <child link="r_sole" />
    </joint>
    <joint name="r_arm_ft_sensor" type="fixed">
        <origin xyz="0.015 -8.93429e-18 0.068" rpy="0 -0 0" />
        <axis xyz="0 0 0" />
        <parent link="r_shoulder_3" />
        <child link="r_upper_arm" />
    </joint>
    <joint name="r_upper_arm_dh_frame_fixed_joint" type="fixed">
        <origin xyz="0 0 0.08428" rpy="1.5708 -0 3.14159" />
        <axis xyz="0 0 0" />
        <parent link="r_upper_arm" />
        <child link="r_upper_arm_dh_frame" />
    </joint>
    <joint name="r_hip_yaw" type="revolute">
        <origin xyz="0 0 -0.0665" rpy="-1.5708 -6.16298e-33 6.12323e-17" />
        <axis xyz="0 -1 6.12323e-17" />
        <parent link="r_hip_3" />
        <child link="r_upper_leg" />
        <dynamics damping="1" friction="0" />
        <limit effort="40" velocity="100" lower="-1.37881" upper="1.37881" />
    </joint>
    <joint name="r_wrist_pitch" type="revolute">
        <origin xyz="0 -0.1373 -8.4072e-18" rpy="1.5708 1.11022e-16 1.5708" />
        <axis xyz="0 1 6.12323e-17" />
        <parent link="r_forearm" />
        <child link="r_wrist_1" />
        <dynamics damping="1" friction="0" />
        <limit effort="0.65" velocity="100" lower="-1.13446" upper="0.174533" />
    </joint>
    <joint name="base_fixed_joint" type="fixed">
        <origin xyz="0 0 0" rpy="0 -0 0" />
        <axis xyz="0 0 0" />
        <parent link="base_link" />
        <child link="root_link" />
    </joint>
    <joint name="torso_joint" type="fixed">
        <origin xyz="0.00231 0.1933 -1.18362e-17" rpy="0 -0 0" />
        <axis xyz="0 0 0" />
        <parent link="chest" />
        <child link="torso" />
    </joint>
    <joint name="torso_pitch" type="revolute">
        <origin xyz="0 0 0" rpy="0 -1.5708 3.14159" />
        <axis xyz="0 1 6.12323e-17" />
        <parent link="root_link" />
        <child link="torso_1" />
        <dynamics damping="1" friction="0" />
        <limit effort="36" velocity="100" lower="-0.383972" upper="1.46608" />
    </joint>
    <joint name="torso_roll" type="revolute">
        <origin xyz="0.032 -2.67276e-51 0" rpy="1.5708 -1.11022e-16 -1.5708" />
        <axis xyz="0 1 6.12323e-17" />
        <parent link="torso_1" />
        <child link="torso_2" />
        <dynamics damping="1" friction="0" />
        <limit effort="80" velocity="100" lower="-0.680678" upper="0.680678" />
    </joint>
    <gazebo reference="l_arm_ft_sensor">
        <sensor name="left_arm_ft" type="force_torque">
            <force_torque>
                <frame>child</frame>
                <measure_direction>child_to_parent</measure_direction>
            </force_torque>
            <update_rate>100</update_rate>
            <always_on>1</always_on>
        </sensor>
    </gazebo>
    <gazebo reference="r_arm_ft_sensor">
        <sensor name="right_arm_ft" type="force_torque">
            <force_torque>
                <frame>child</frame>
                <measure_direction>child_to_parent</measure_direction>
            </force_torque>
            <update_rate>100</update_rate>
            <always_on>1</always_on>
        </sensor>
    </gazebo>
    <gazebo reference="l_leg_ft_sensor">
        <sensor name="left_leg_ft" type="force_torque">
            <force_torque>
                <frame>child</frame>
                <measure_direction>child_to_parent</measure_direction>
            </force_torque>
            <update_rate>100</update_rate>
            <always_on>1</always_on>
        </sensor>
    </gazebo>
    <gazebo reference="r_leg_ft_sensor">
        <sensor name="right_leg_ft" type="force_torque">
            <force_torque>
                <frame>child</frame>
                <measure_direction>child_to_parent</measure_direction>
            </force_torque>
            <update_rate>100</update_rate>
            <always_on>1</always_on>
        </sensor>
    </gazebo>
    <gazebo reference="l_foot_ft_sensor">
        <sensor name="left_foot_ft" type="force_torque">
            <force_torque>
                <frame>child</frame>
                <measure_direction>child_to_parent</measure_direction>
            </force_torque>
            <update_rate>100</update_rate>
            <always_on>1</always_on>
        </sensor>
    </gazebo>
    <gazebo reference="r_foot_ft_sensor">
        <sensor name="right_foot_ft" type="force_torque">
            <force_torque>
                <frame>child</frame>
                <measure_direction>child_to_parent</measure_direction>
            </force_torque>
            <update_rate>100</update_rate>
            <always_on>1</always_on>
        </sensor>
    </gazebo>
    <sensor type="force_torque" name="l_arm_ft_sensor">
        <parent joint="l_arm_ft_sensor" />
        <force_torque>
            <frame>child</frame>
            <measure_direction>child_to_parent</measure_direction>
        </force_torque>
    </sensor>
    <sensor type="force_torque" name="r_arm_ft_sensor">
        <parent joint="r_arm_ft_sensor" />
        <force_torque>
            <frame>child</frame>
            <measure_direction>child_to_parent</measure_direction>
        </force_torque>
    </sensor>
    <sensor type="force_torque" name="l_leg_ft_sensor">
        <parent joint="l_leg_ft_sensor" />
        <force_torque>
            <frame>child</frame>
            <measure_direction>child_to_parent</measure_direction>
        </force_torque>
    </sensor>
    <sensor type="force_torque" name="r_leg_ft_sensor">
        <parent joint="r_leg_ft_sensor" />
        <force_torque>
            <frame>child</frame>
            <measure_direction>child_to_parent</measure_direction>
        </force_torque>
    </sensor>
    <sensor type="force_torque" name="l_foot_ft_sensor">
        <parent joint="l_foot_ft_sensor" />
        <force_torque>
            <frame>child</frame>
            <measure_direction>child_to_parent</measure_direction>
        </force_torque>
    </sensor>
    <sensor type="force_torque" name="r_foot_ft_sensor">
        <parent joint="r_foot_ft_sensor" />
        <force_torque>
            <frame>child</frame>
            <measure_direction>child_to_parent</measure_direction>
        </force_torque>
    </sensor>
</robot>
